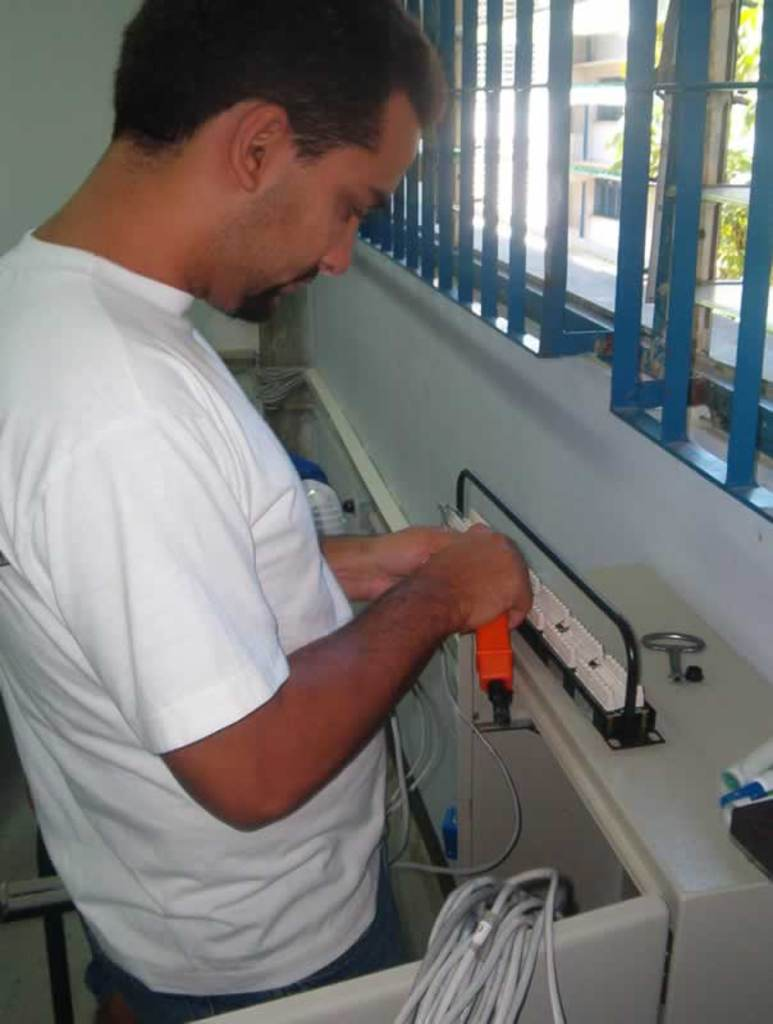Human_hand: (427, 520, 534, 634), (368, 526, 460, 602)
